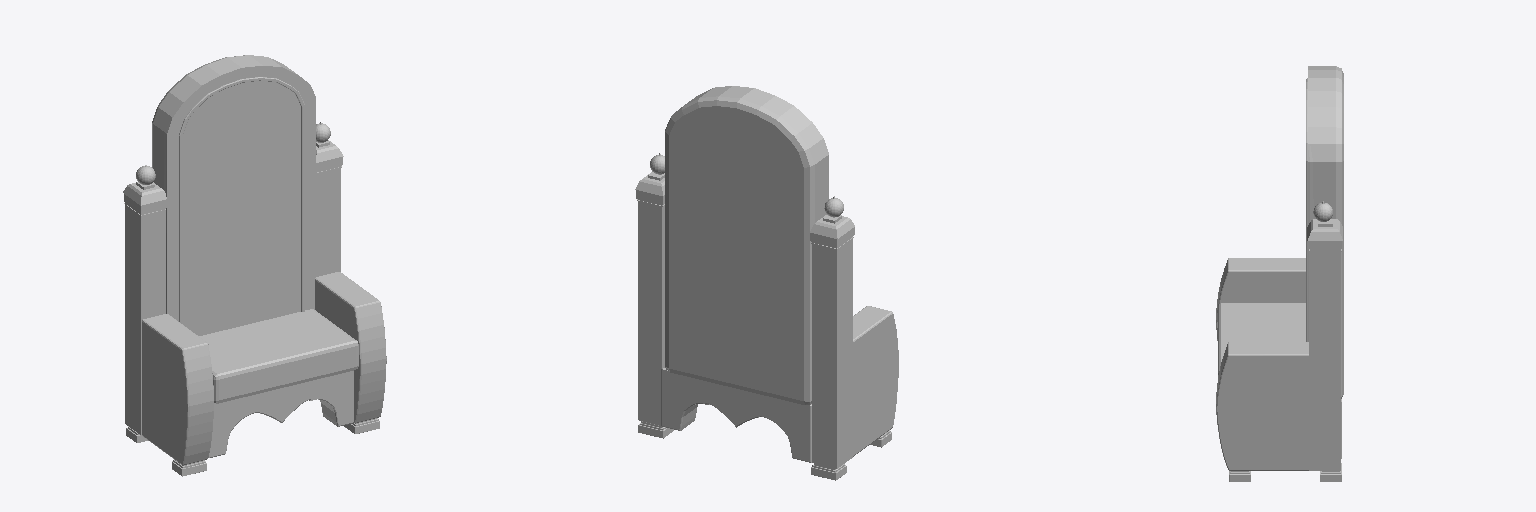
The model's file is Chair _obj.obj.
The picture shows the model from 3 angles: view 1: azimuth 30°, elevation 25°; view 2: azimuth 150°, elevation 25°; view 3: azimuth 270°, elevation 25°; orthographic projection.
Parts seen in each view (by area): view 1: chair1; view 2: chair1; view 3: chair1.
Part boxes in pixels (x1,y1,x2,y2): chair1: (123, 55, 386, 476); chair1: (635, 86, 898, 480); chair1: (1216, 66, 1343, 481).
Size of the model in its own units: 44.64 by 74.88 by 24.29.